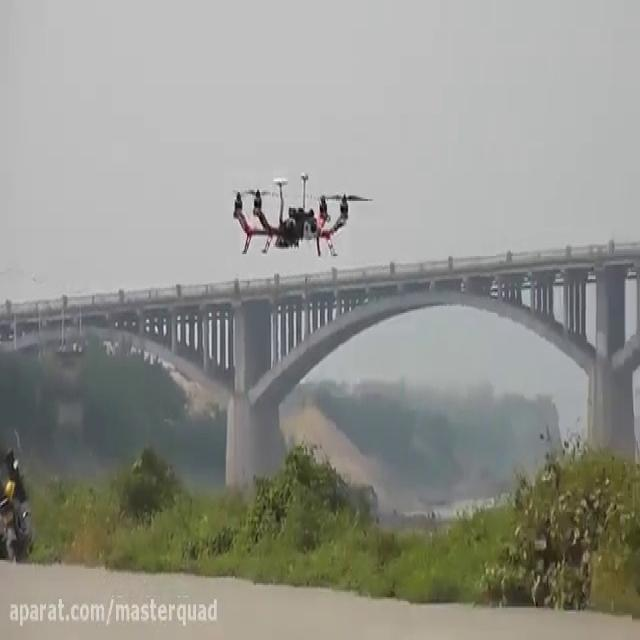drone: (227, 167, 375, 261)
